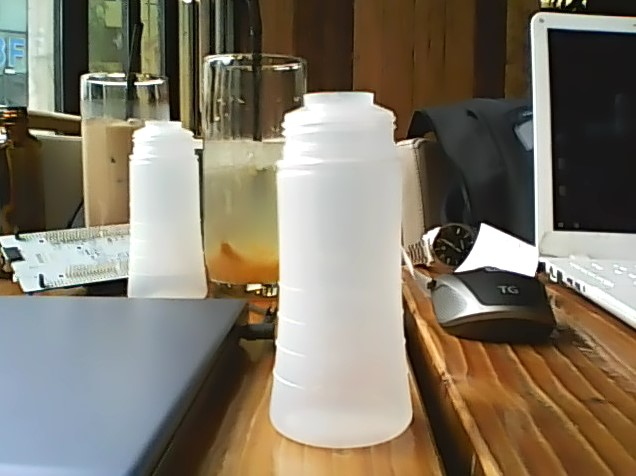Plastic: (266, 88, 416, 451)
